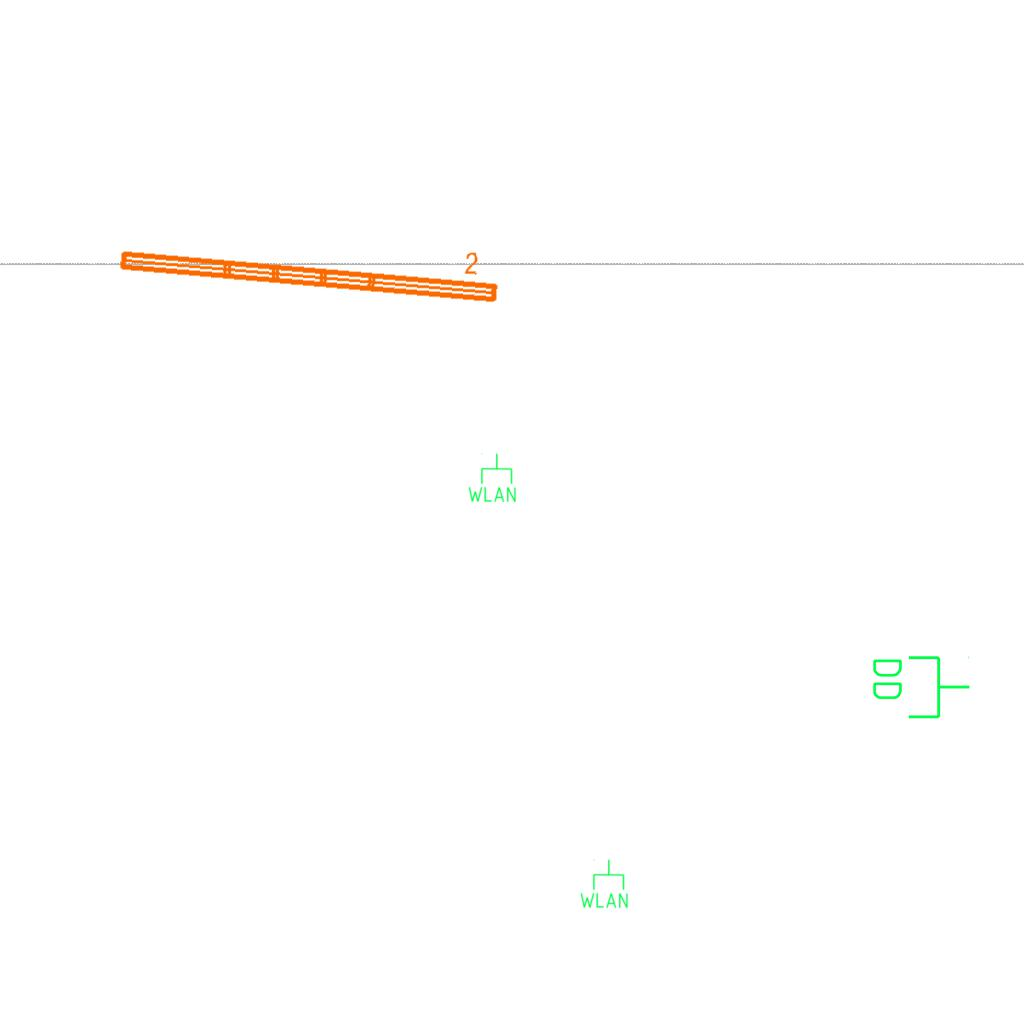Ambulanz_Pendelleuchte_LED: (114, 219, 505, 309)
Datenanschluss_zweifach: (869, 652, 972, 721)
WLAN: (578, 858, 630, 910), (466, 452, 518, 504)
